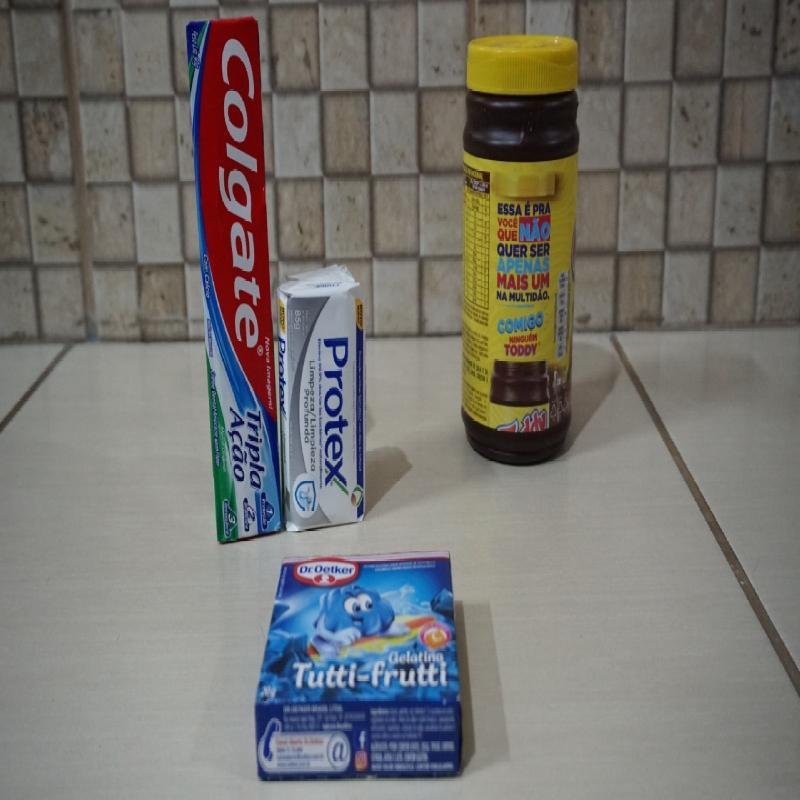Chocolate Powder: (461, 30, 582, 464)
Gelatine: (254, 555, 465, 783)
Soap: (273, 265, 366, 532)
Toothpaste: (184, 17, 284, 546)
